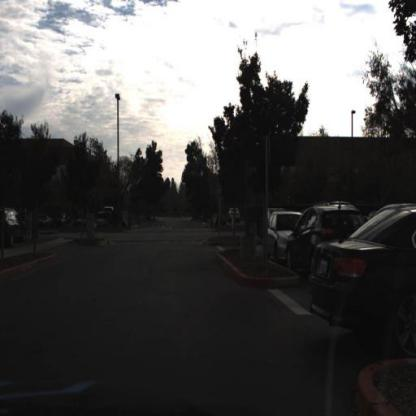car: (311, 206, 416, 361), (282, 198, 360, 284), (263, 209, 294, 268), (1, 206, 30, 250), (228, 203, 244, 225), (228, 206, 243, 224)
